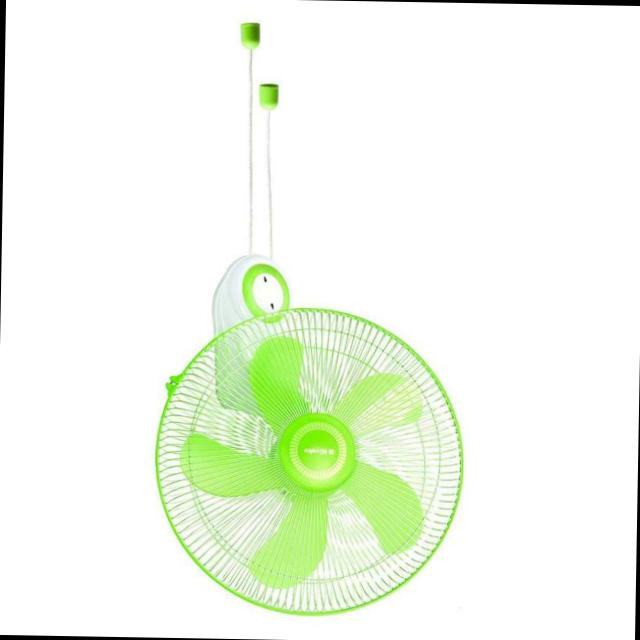fan: (131, 10, 483, 630)
